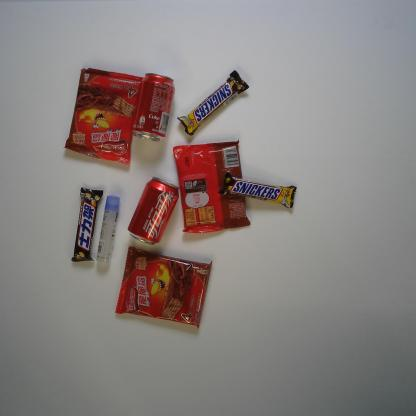Chocolate: (177, 69, 250, 137), (218, 172, 298, 209), (71, 186, 104, 263)
Dessert: (115, 246, 213, 329), (63, 67, 144, 166), (173, 138, 251, 234)
Drink: (127, 176, 180, 245), (132, 73, 175, 143)
Stationery: (96, 195, 120, 263)
